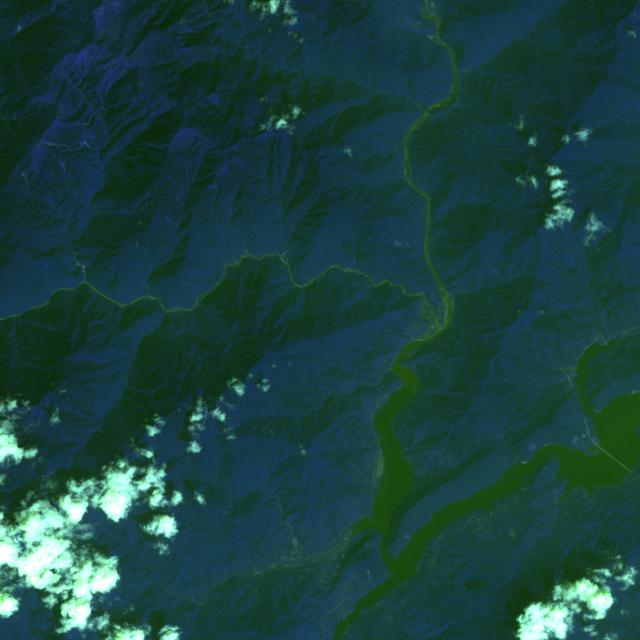landslides: (26, 433, 37, 449), (568, 128, 592, 135), (73, 467, 82, 485), (144, 447, 160, 457), (6, 120, 16, 136), (42, 141, 64, 148), (411, 250, 426, 259), (408, 510, 416, 525), (166, 217, 177, 227)
